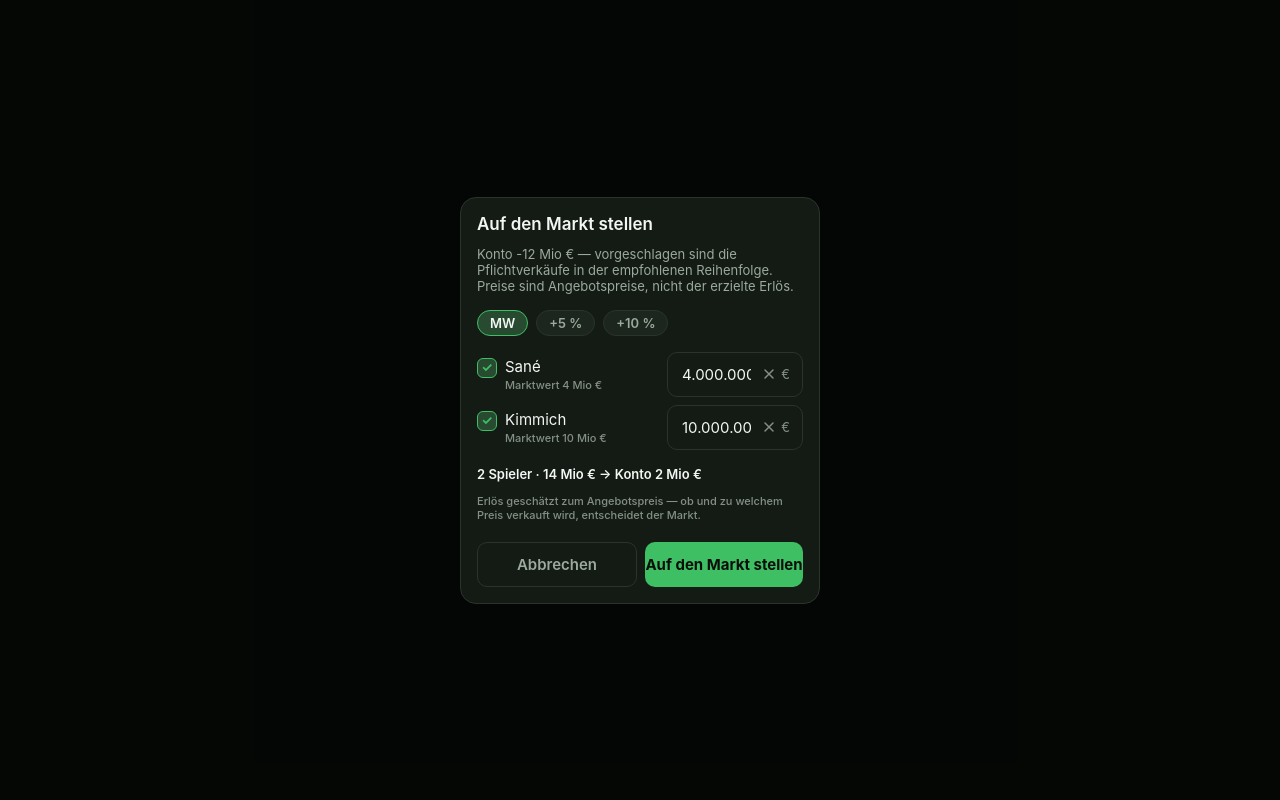
Test: MarketListingModal › bleibt offen und schreibt den Grund an die gescheiterte Zeile
This screenshot has width=1280, height=800.
What coordinates should you click on to do the following:
click the button "Auf den Markt stellen"
I would click on:
 (724, 564)
Its box is [645, 542, 803, 586].
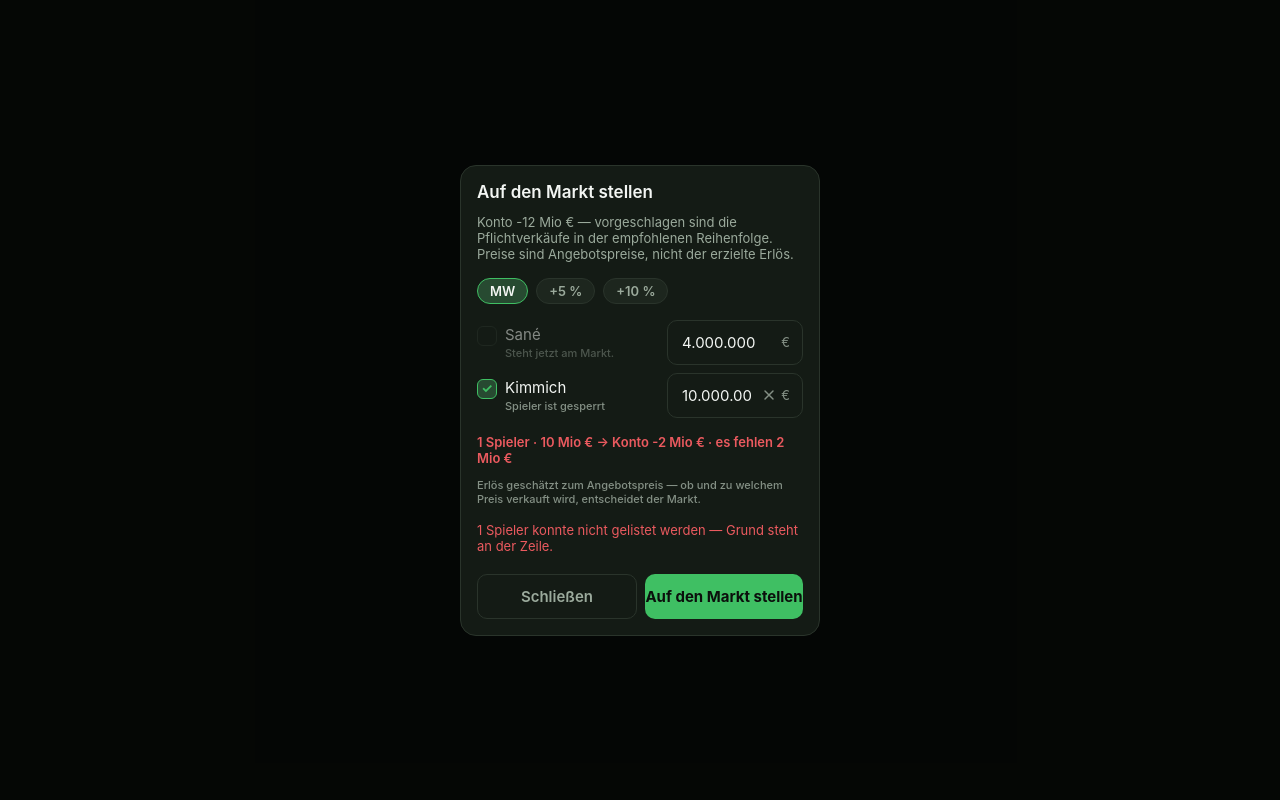
Expected: the text "Spieler ist gesperrt" is shown, [505, 398, 605, 412]
Expected: the text "Steht jetzt am Markt." is shown, [505, 346, 614, 360]
Expected: the message shows "1 Spieler konnte nicht gelistet werden", [477, 522, 798, 554]
